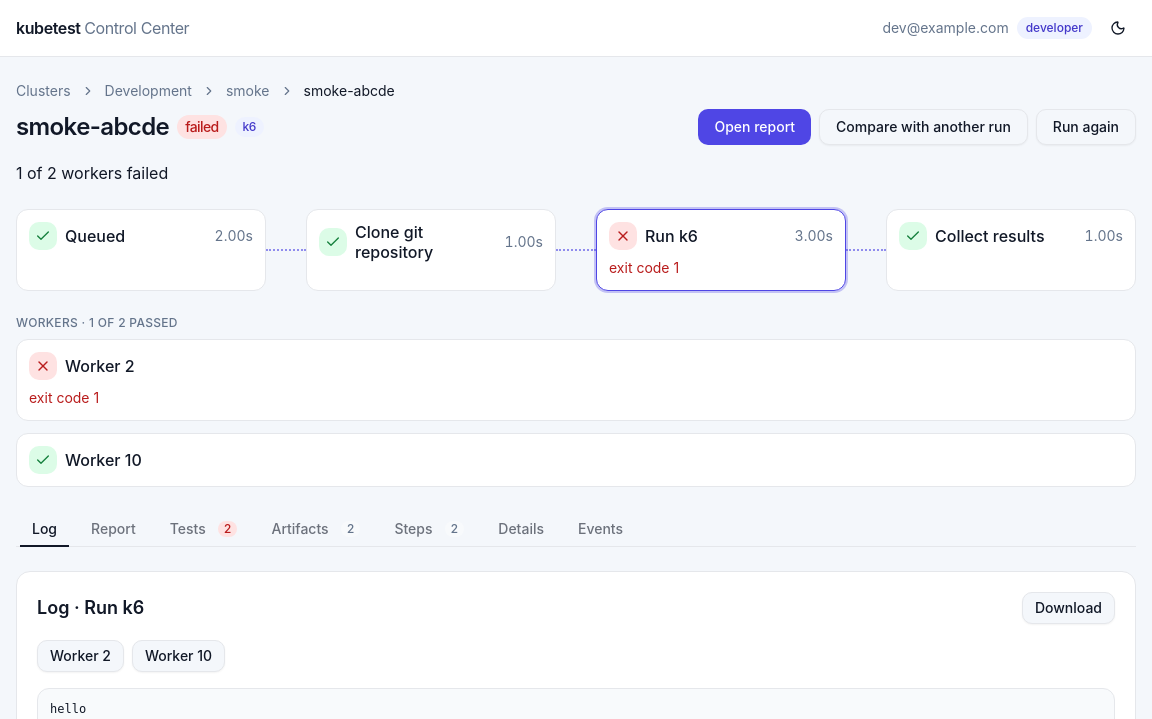
Test case: run page › runs again with the same parameters and opens the new run
The width and height of the screenshot is (1152, 719).
Click the button "Run again" at x=1086, y=127, box [1036, 109, 1136, 145]
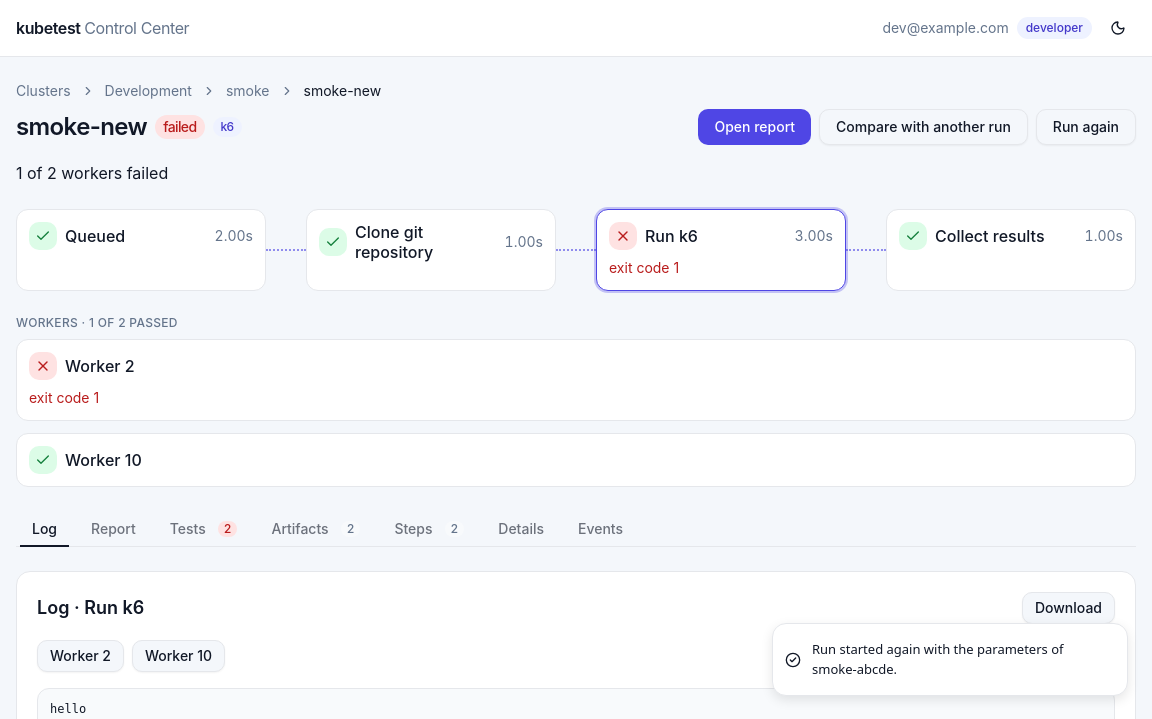
Expected: the text "Run started again with the parameters of smoke-abcde." is shown, [812, 640, 1064, 678]
